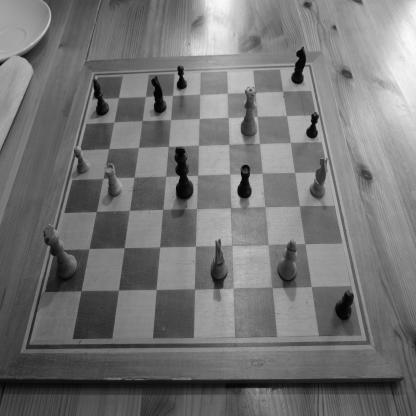black-bishop: (93, 78, 109, 116)
black-king: (174, 146, 194, 200)
black-knight: (151, 76, 167, 113), (291, 46, 306, 84)
black-pawn: (335, 290, 354, 320), (306, 112, 319, 138), (176, 64, 188, 90)
black-rook: (237, 164, 252, 199)
white-bishop: (277, 238, 298, 281)
white-king: (43, 223, 78, 280)
white-knight: (309, 157, 328, 198), (210, 238, 228, 280)
white-pawn: (74, 145, 90, 174)
white-queen: (240, 85, 258, 137)
white-rook: (104, 163, 123, 197)
